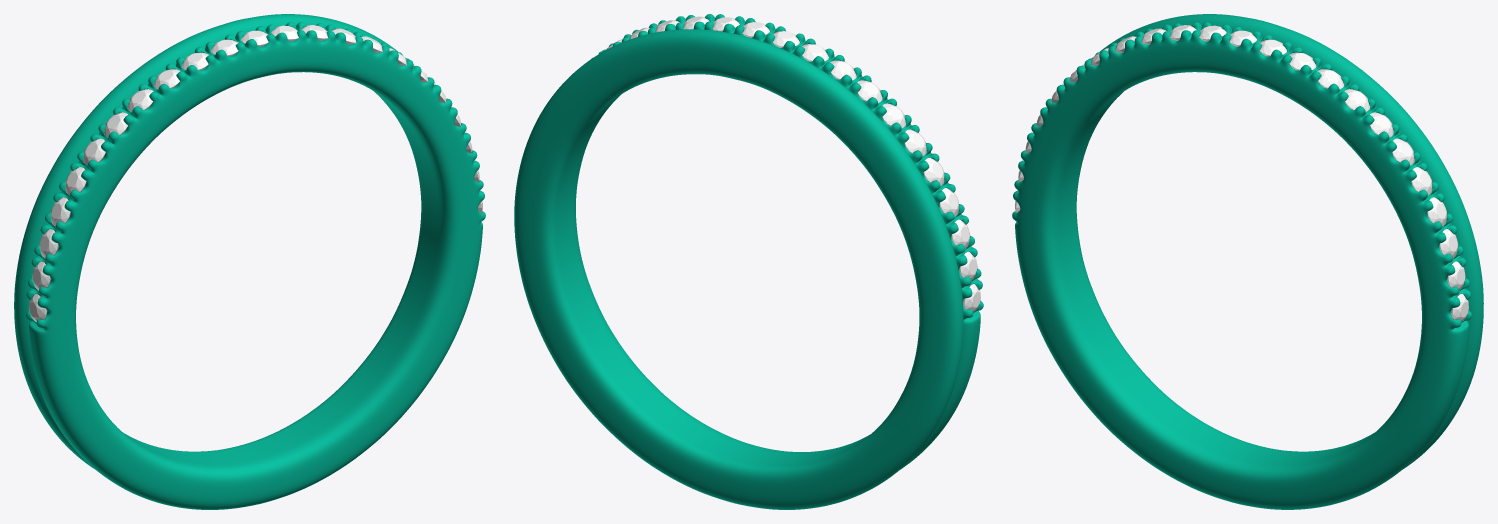
The model's file is BE2D5642_RENDER.glb.
3 views of the same model, side by side, from view 1: azimuth 30°, elevation 25°; view 2: azimuth 150°, elevation 25°; view 3: azimuth 330°, elevation 25° (orthographic).
Parts seen in each view (by area): view 1: Metal03; view 2: Metal03; view 3: Metal03.
Boxes of the visible parts, x1,y1,x2,y2 form: Metal03: (14,14,485,509); Metal03: (514,14,983,509); Metal03: (1012,14,1483,509).
Bounding box in the file's own units: 20.14 × 20.11 × 2.5.
